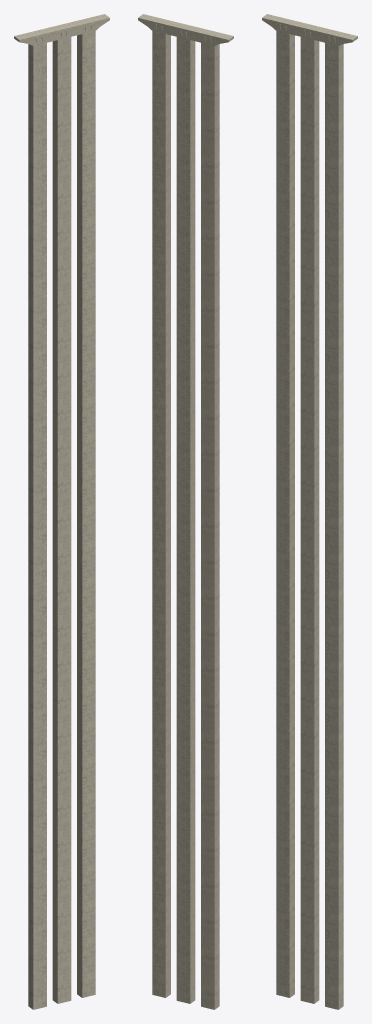
File: BridgePillar3.FBX
The picture shows the model from 3 angles, left to right: view 1: azimuth 30°, elevation 25°; view 2: azimuth 150°, elevation 25°; view 3: azimuth 330°, elevation 25°; orthographic projection.
Visible parts, largest first — view 1: BridgePillar3; view 2: BridgePillar3; view 3: BridgePillar3.
Boxes of the visible parts, left/top/right/bottom form: BridgePillar3: left=14, top=14, right=109, bottom=1009; BridgePillar3: left=138, top=14, right=233, bottom=1009; BridgePillar3: left=262, top=14, right=357, bottom=1009.
Bounding box in the file's own units: 20 × 205 × 2.25.
